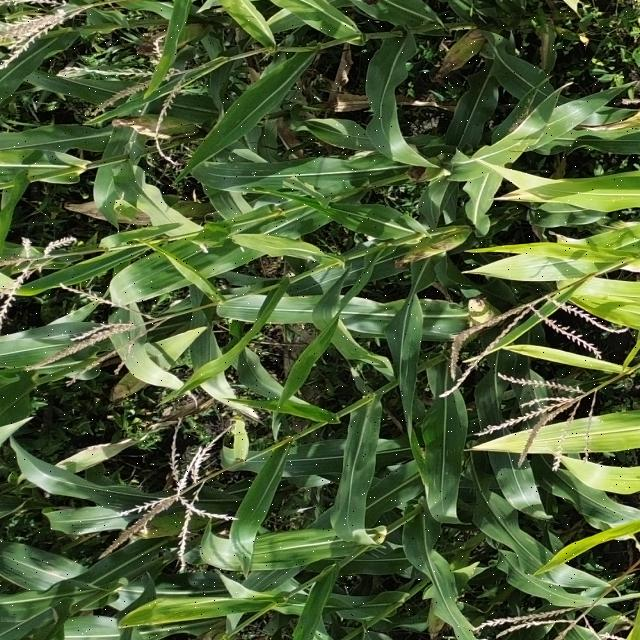gray-leaf-spot: (380, 301, 451, 413)
southern-leaf-blight: (190, 155, 284, 199)
